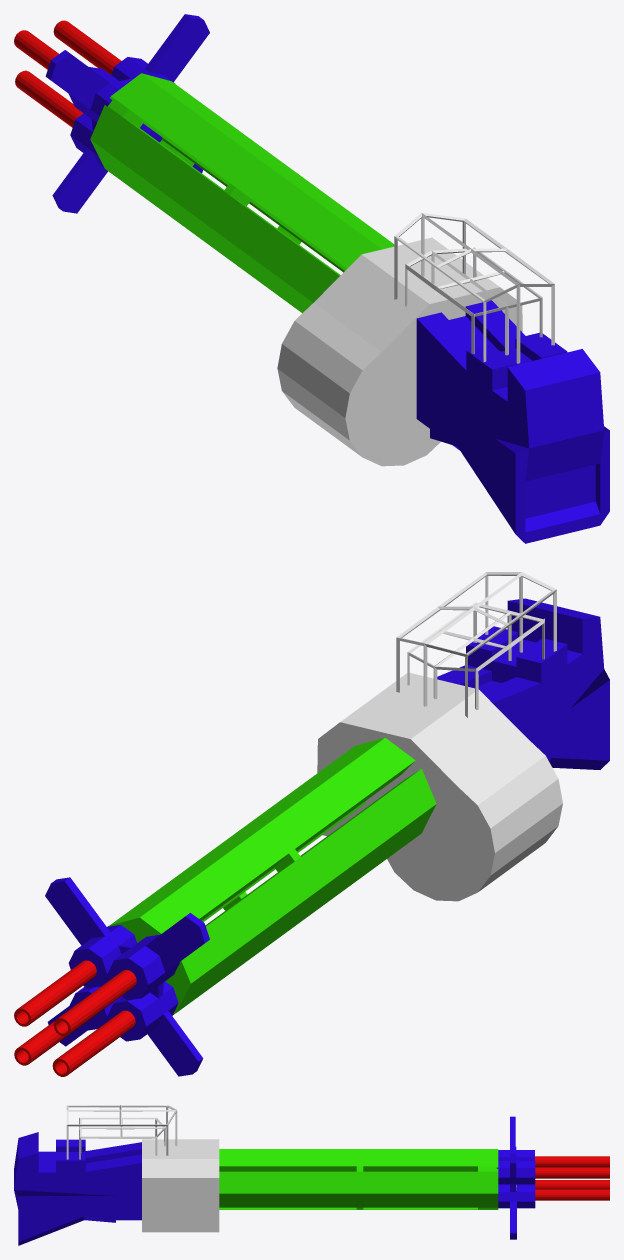
File: Gatring.gltf
3 renders of one model, top to bottom at view 1: azimuth 30°, elevation 25°; view 2: azimuth 150°, elevation 25°; view 3: azimuth 270°, elevation 25°, orthographic. The views are drawn at different scales.
Visible parts, largest first — view 1: 円柱.002; view 2: 円柱.002; view 3: 円柱.002.
Part boxes in pixels (x1=…): 円柱.002: x1=14, y1=14, x2=609, y2=543; 円柱.002: x1=14, y1=572, x2=609, y2=1076; 円柱.002: x1=14, y1=1105, x2=609, y2=1245.
Bounding box in the file's own units: 1.99 × 2.23 × 9.6.
